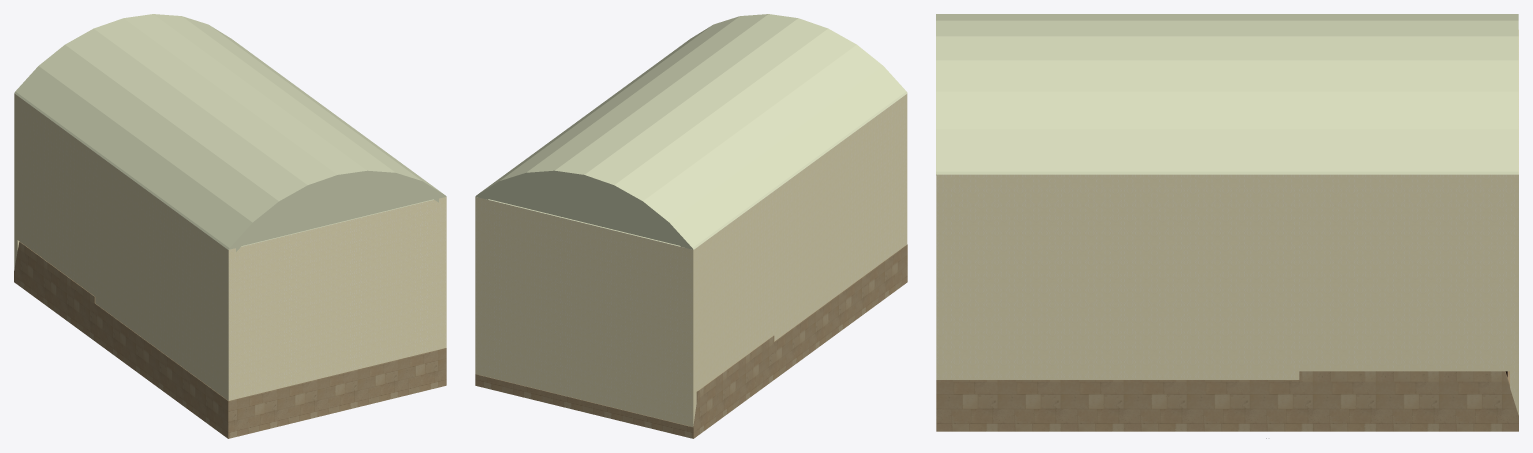
Rendered from igle2.glb.
3 views of the same model, side by side, from view 1: azimuth 30°, elevation 25°; view 2: azimuth 150°, elevation 25°; view 3: azimuth 270°, elevation 25° (orthographic). The views are drawn at different scales.
Visible parts, largest first — view 1: paredes, Cylinder, Cube; view 2: paredes, Cylinder, Cube; view 3: paredes, Cylinder, Cube.
Part boxes in pixels (<box>): paredes: <box>14,93,446,400</box>; Cylinder: <box>14,14,446,251</box>; Cube: <box>14,241,446,438</box>; paredes: <box>475,94,907,426</box>; Cylinder: <box>475,14,907,249</box>; Cube: <box>475,244,907,438</box>; paredes: <box>936,30,1518,415</box>; Cylinder: <box>936,14,1518,174</box>; Cube: <box>936,371,1518,431</box>.
Bounding box in the file's own units: 58.74 × 56.55 × 92.46.
587 materials, 16 textured.
